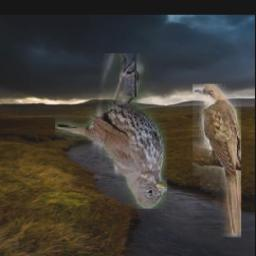Cuckoo: (193, 84, 241, 237)
Sparrow: (55, 53, 167, 209)
